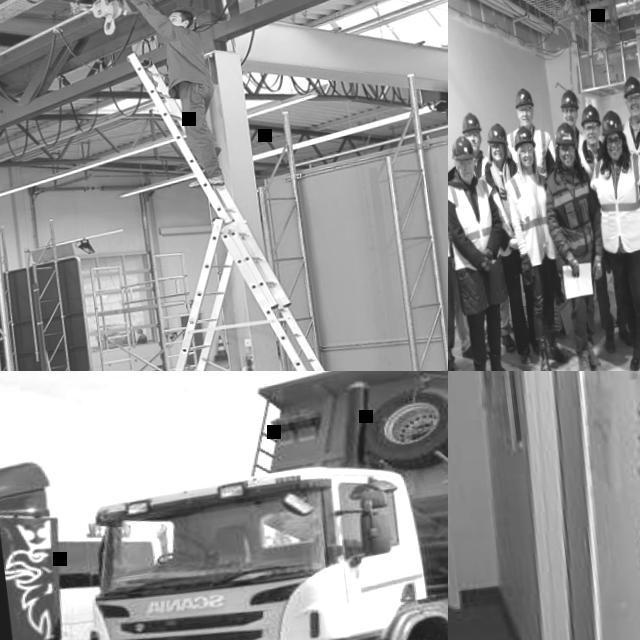helmet: (598, 108, 624, 136), (449, 134, 475, 162), (553, 120, 578, 146), (578, 102, 602, 128), (512, 125, 536, 151), (484, 121, 508, 145), (459, 110, 481, 134), (558, 88, 580, 110), (512, 86, 534, 108), (621, 74, 640, 97)
vest: (585, 148, 640, 257), (502, 170, 557, 270), (448, 175, 503, 275), (542, 165, 600, 258), (477, 168, 518, 259), (505, 122, 556, 180), (546, 128, 588, 164), (578, 138, 608, 178), (621, 114, 640, 156), (472, 156, 491, 178)
